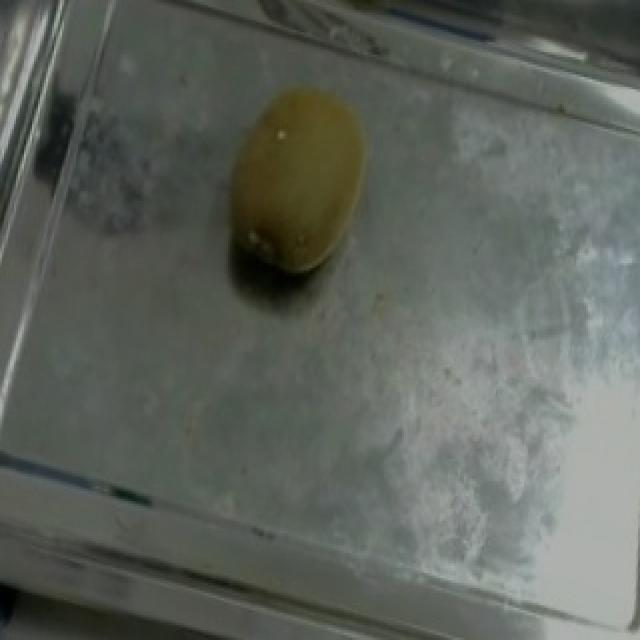Fruit: (192, 60, 406, 312)
